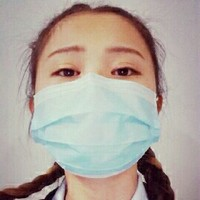face_mask: (37, 8, 153, 163)
